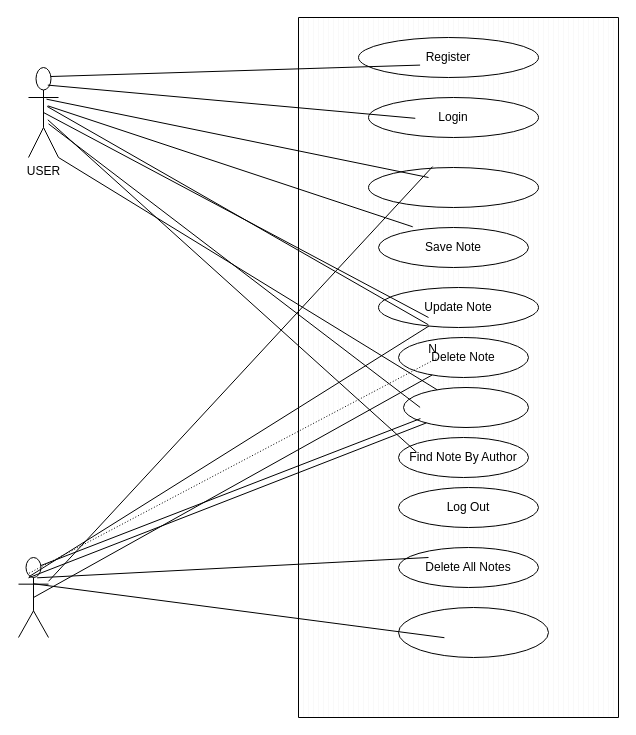
The diagram is 636 pixels wide and 735 high, and some of its shapes have lost their labels. Here are the shapes that lost their labels. From the top down, the centre of each, then its label:
At (453,187): "Add Note".
At (465,407): "Find Note By Title".
At (33,597): "NOTE".
At (473,632): "Get All Notes".
